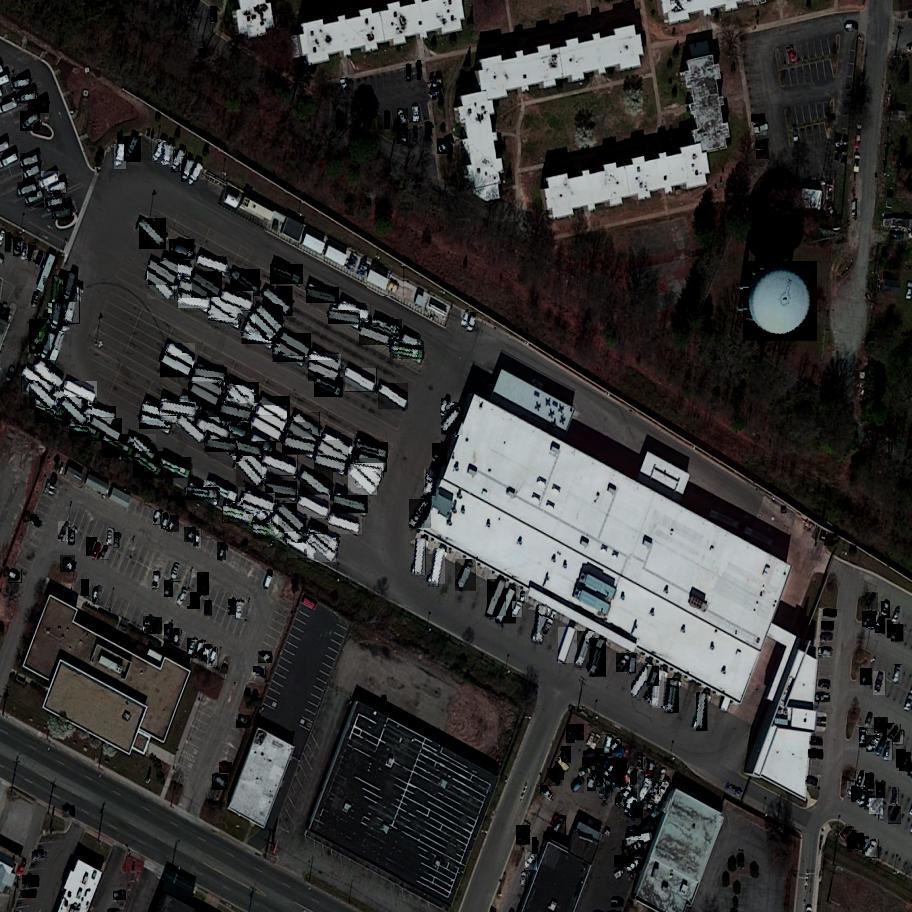large-vehicle: (365, 265, 407, 296), (300, 470, 335, 501), (262, 286, 295, 316), (29, 319, 57, 354), (271, 514, 303, 544), (34, 360, 66, 390), (347, 465, 378, 495), (226, 386, 255, 418), (631, 664, 658, 698), (317, 441, 351, 468), (250, 416, 285, 442), (240, 495, 270, 525), (255, 305, 285, 335), (277, 504, 307, 534), (239, 449, 269, 479), (307, 534, 338, 563), (293, 412, 322, 443), (235, 457, 264, 488), (230, 270, 262, 298), (34, 398, 67, 425), (376, 384, 409, 411), (147, 269, 176, 299), (22, 366, 53, 394), (139, 218, 167, 249), (132, 452, 165, 478), (191, 272, 224, 298), (148, 260, 181, 286), (287, 423, 320, 449), (255, 407, 288, 433), (257, 397, 291, 422), (128, 434, 157, 463), (249, 313, 277, 343), (61, 397, 89, 427), (177, 416, 207, 444), (165, 344, 196, 371), (102, 435, 135, 460), (345, 368, 378, 393), (487, 579, 508, 618), (188, 382, 222, 406), (496, 588, 518, 625), (29, 381, 57, 410), (297, 495, 332, 518), (279, 334, 312, 358), (195, 418, 231, 440), (285, 537, 319, 560), (159, 355, 193, 378), (575, 632, 596, 669), (262, 455, 299, 476), (211, 295, 242, 320), (353, 450, 388, 472), (322, 433, 356, 455), (558, 627, 578, 664), (91, 418, 123, 441), (225, 382, 260, 403), (64, 382, 97, 404), (50, 326, 69, 364), (206, 481, 240, 502), (160, 457, 194, 478), (307, 362, 342, 382), (270, 264, 305, 284), (359, 325, 394, 345), (221, 292, 256, 312), (408, 500, 432, 529), (327, 515, 363, 534), (228, 438, 266, 456), (306, 528, 341, 547), (590, 638, 607, 677), (167, 240, 196, 262), (222, 505, 257, 523), (332, 496, 369, 513), (52, 388, 85, 407), (244, 492, 277, 511), (314, 378, 345, 398), (197, 256, 231, 274), (178, 281, 213, 298), (305, 287, 340, 304), (160, 261, 195, 278), (282, 438, 317, 455), (83, 406, 117, 423), (219, 404, 253, 421), (142, 404, 176, 421), (271, 346, 307, 362), (314, 455, 347, 472), (252, 524, 287, 540), (354, 442, 389, 458), (66, 287, 81, 324), (309, 354, 343, 370), (338, 303, 372, 319), (159, 402, 197, 416), (264, 482, 299, 497), (371, 320, 403, 336), (69, 422, 103, 437), (696, 693, 709, 731), (390, 346, 425, 360), (349, 464, 384, 478), (139, 415, 174, 429), (432, 548, 445, 585), (177, 294, 211, 308), (194, 368, 228, 382), (205, 438, 239, 452), (63, 272, 78, 303), (208, 311, 241, 325), (328, 311, 361, 325), (191, 377, 224, 391), (40, 334, 57, 361), (536, 605, 548, 643), (652, 670, 664, 708), (52, 276, 64, 314), (186, 487, 221, 500), (241, 332, 275, 345), (667, 678, 679, 713), (416, 539, 427, 576), (52, 301, 65, 332), (432, 443, 449, 466), (424, 469, 434, 497)
ship: (651, 777, 674, 812), (637, 777, 656, 803), (594, 748, 607, 771)
small-vehicle: (440, 406, 465, 436), (455, 560, 478, 592), (252, 433, 278, 455), (204, 407, 228, 430), (187, 162, 207, 188), (124, 137, 142, 163), (152, 140, 171, 164), (20, 112, 42, 132), (170, 150, 189, 173), (25, 189, 48, 208), (38, 171, 61, 190), (622, 840, 645, 859), (227, 423, 253, 439), (19, 154, 43, 171), (15, 182, 39, 197), (615, 653, 633, 673), (23, 164, 44, 181), (60, 555, 79, 573), (546, 768, 564, 787), (540, 783, 557, 803), (603, 758, 620, 778), (515, 825, 532, 845), (179, 399, 205, 412), (181, 159, 195, 183), (114, 145, 127, 170), (197, 572, 211, 595), (437, 138, 457, 154), (340, 79, 356, 99), (873, 671, 886, 695), (145, 616, 162, 634), (887, 724, 903, 743), (51, 206, 74, 219), (647, 666, 661, 687), (866, 735, 882, 753), (199, 645, 215, 663), (211, 775, 229, 791), (28, 100, 50, 113), (866, 840, 881, 859), (624, 798, 639, 817), (553, 815, 568, 834), (58, 521, 72, 541), (751, 122, 770, 136), (874, 738, 888, 757), (627, 858, 643, 874), (869, 798, 884, 815), (571, 777, 586, 794), (888, 807, 902, 825), (166, 515, 180, 533), (541, 620, 555, 638), (176, 589, 190, 607), (142, 617, 156, 635), (615, 769, 629, 787), (622, 786, 635, 805), (865, 791, 877, 811), (861, 611, 876, 627), (29, 513, 44, 529), (524, 855, 539, 871), (881, 723, 895, 740), (891, 625, 905, 642), (866, 593, 880, 610), (188, 592, 202, 609), (786, 47, 799, 65), (86, 538, 99, 556), (193, 640, 206, 658), (572, 725, 585, 743), (840, 827, 854, 843), (874, 718, 888, 734), (614, 758, 628, 774), (861, 669, 874, 686), (614, 855, 631, 868), (804, 775, 821, 788), (7, 570, 24, 583), (45, 199, 65, 210), (47, 183, 67, 194), (17, 92, 37, 103), (11, 78, 31, 89), (468, 312, 479, 332), (441, 398, 452, 418), (900, 754, 912, 772), (29, 850, 47, 862), (187, 638, 197, 659), (578, 766, 593, 780), (92, 542, 103, 561), (171, 563, 182, 582), (566, 724, 577, 743), (207, 648, 218, 667), (184, 527, 197, 543), (398, 109, 410, 126), (864, 773, 876, 790), (875, 617, 887, 634), (868, 613, 880, 630), (512, 601, 524, 618), (164, 580, 176, 597), (35, 250, 46, 268), (856, 771, 867, 789), (896, 749, 907, 767), (561, 746, 572, 764), (892, 608, 904, 624), (235, 716, 251, 728), (14, 237, 24, 256), (848, 830, 858, 849), (218, 542, 228, 561), (164, 624, 174, 643), (555, 761, 565, 780), (397, 127, 408, 144), (864, 712, 875, 729), (632, 802, 643, 819), (635, 772, 646, 789), (165, 144, 173, 167), (609, 739, 622, 753), (63, 805, 76, 819), (28, 242, 37, 262), (588, 771, 597, 791), (22, 876, 40, 886), (557, 756, 569, 771), (31, 292, 42, 308), (603, 787, 614, 803), (884, 742, 893, 761), (92, 586, 101, 605), (236, 600, 245, 619), (752, 114, 766, 126), (851, 787, 862, 802), (894, 732, 905, 747), (258, 652, 273, 663), (860, 789, 869, 807), (604, 735, 613, 753), (461, 311, 471, 327), (859, 727, 867, 747), (629, 653, 637, 673), (881, 602, 891, 618), (113, 891, 127, 902), (848, 781, 857, 798), (894, 666, 903, 683), (856, 833, 865, 850), (877, 782, 886, 799), (162, 513, 171, 530), (604, 752, 612, 771), (818, 648, 833, 658), (154, 511, 164, 526), (616, 792, 626, 807), (21, 241, 29, 259), (810, 736, 823, 747), (220, 762, 233, 773), (627, 826, 641, 836), (819, 633, 833, 643), (582, 758, 596, 768), (653, 779, 662, 794), (821, 621, 834, 631), (253, 666, 266, 676), (211, 7, 219, 23), (81, 580, 89, 596), (631, 769, 639, 785), (205, 600, 213, 616), (647, 794, 655, 810), (426, 123, 433, 141), (817, 681, 831, 690), (887, 620, 894, 638), (101, 546, 110, 560), (23, 889, 37, 898), (152, 572, 159, 589), (68, 527, 75, 544), (879, 802, 885, 821), (195, 529, 201, 548), (174, 629, 181, 645), (647, 761, 654, 777), (413, 106, 420, 121), (597, 772, 604, 787), (823, 609, 837, 616), (757, 151, 769, 159), (809, 750, 822, 757), (385, 111, 390, 129), (815, 696, 830, 702), (229, 600, 235, 615), (406, 64, 411, 81), (863, 836, 868, 853), (893, 787, 898, 804), (756, 142, 768, 149), (417, 60, 421, 80), (414, 126, 419, 142), (601, 778, 605, 798), (852, 200, 857, 216), (6, 232, 10, 251), (108, 529, 113, 544), (844, 24, 855, 30), (661, 768, 666, 781), (638, 753, 642, 769), (522, 872, 526, 886), (612, 901, 623, 906), (533, 837, 536, 854), (115, 533, 118, 547), (522, 591, 525, 603)
storage-tank: (743, 262, 818, 342)
